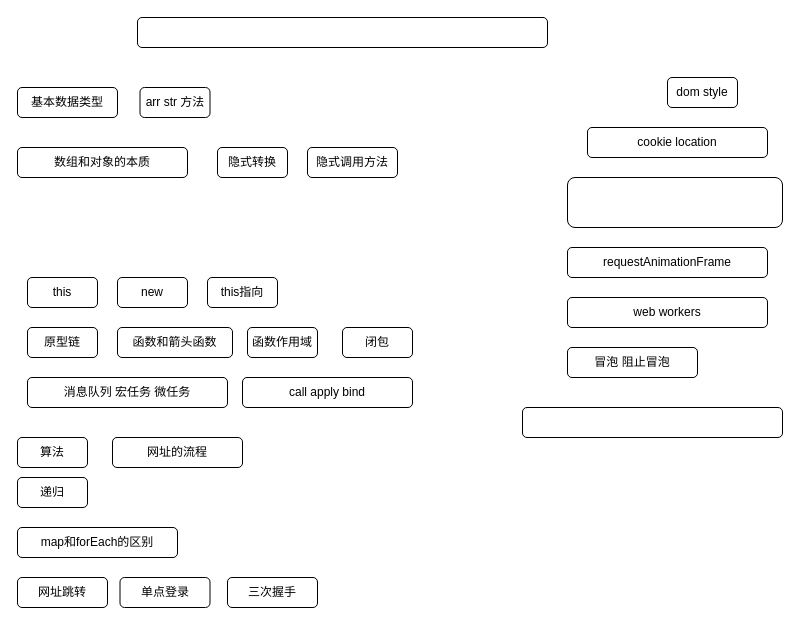
Some shapes in this 800 by 625 pixel diagram are drawn without their labels. The shapes that lost their labels are listed below. From the top down, each one's centre as x and y in pixels, then its label:
At point 342,32: "JS".
At point 674,202: "标签 href src style script".
At point 652,422: "移动端点击穿透 不使用click事件而使用touch事件".
